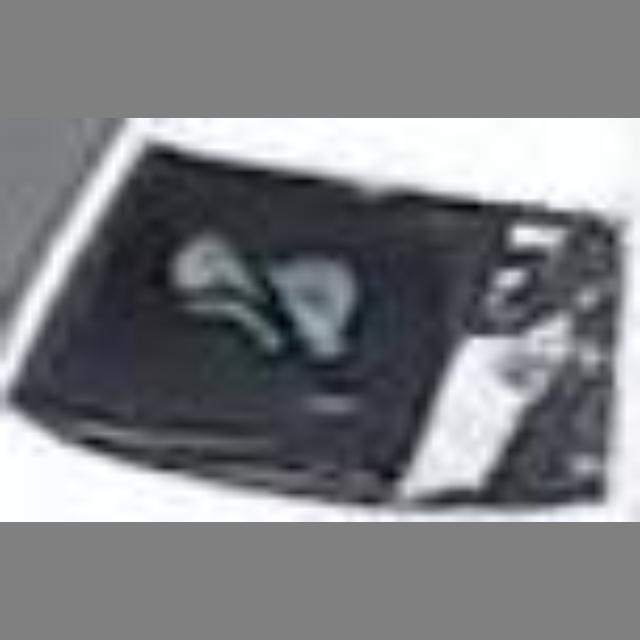pakai: (160, 202, 362, 379)
